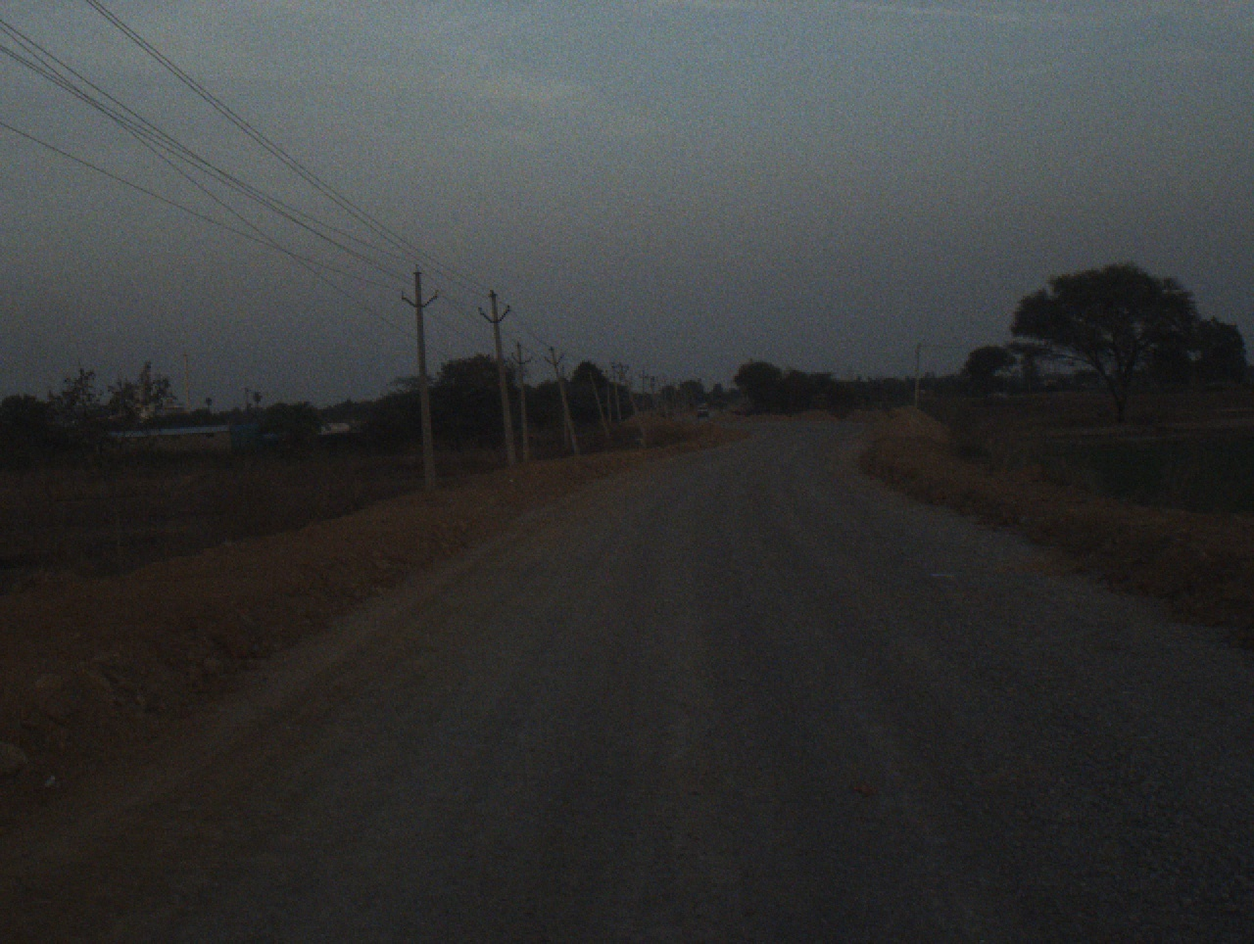car: (691, 401, 712, 418)
